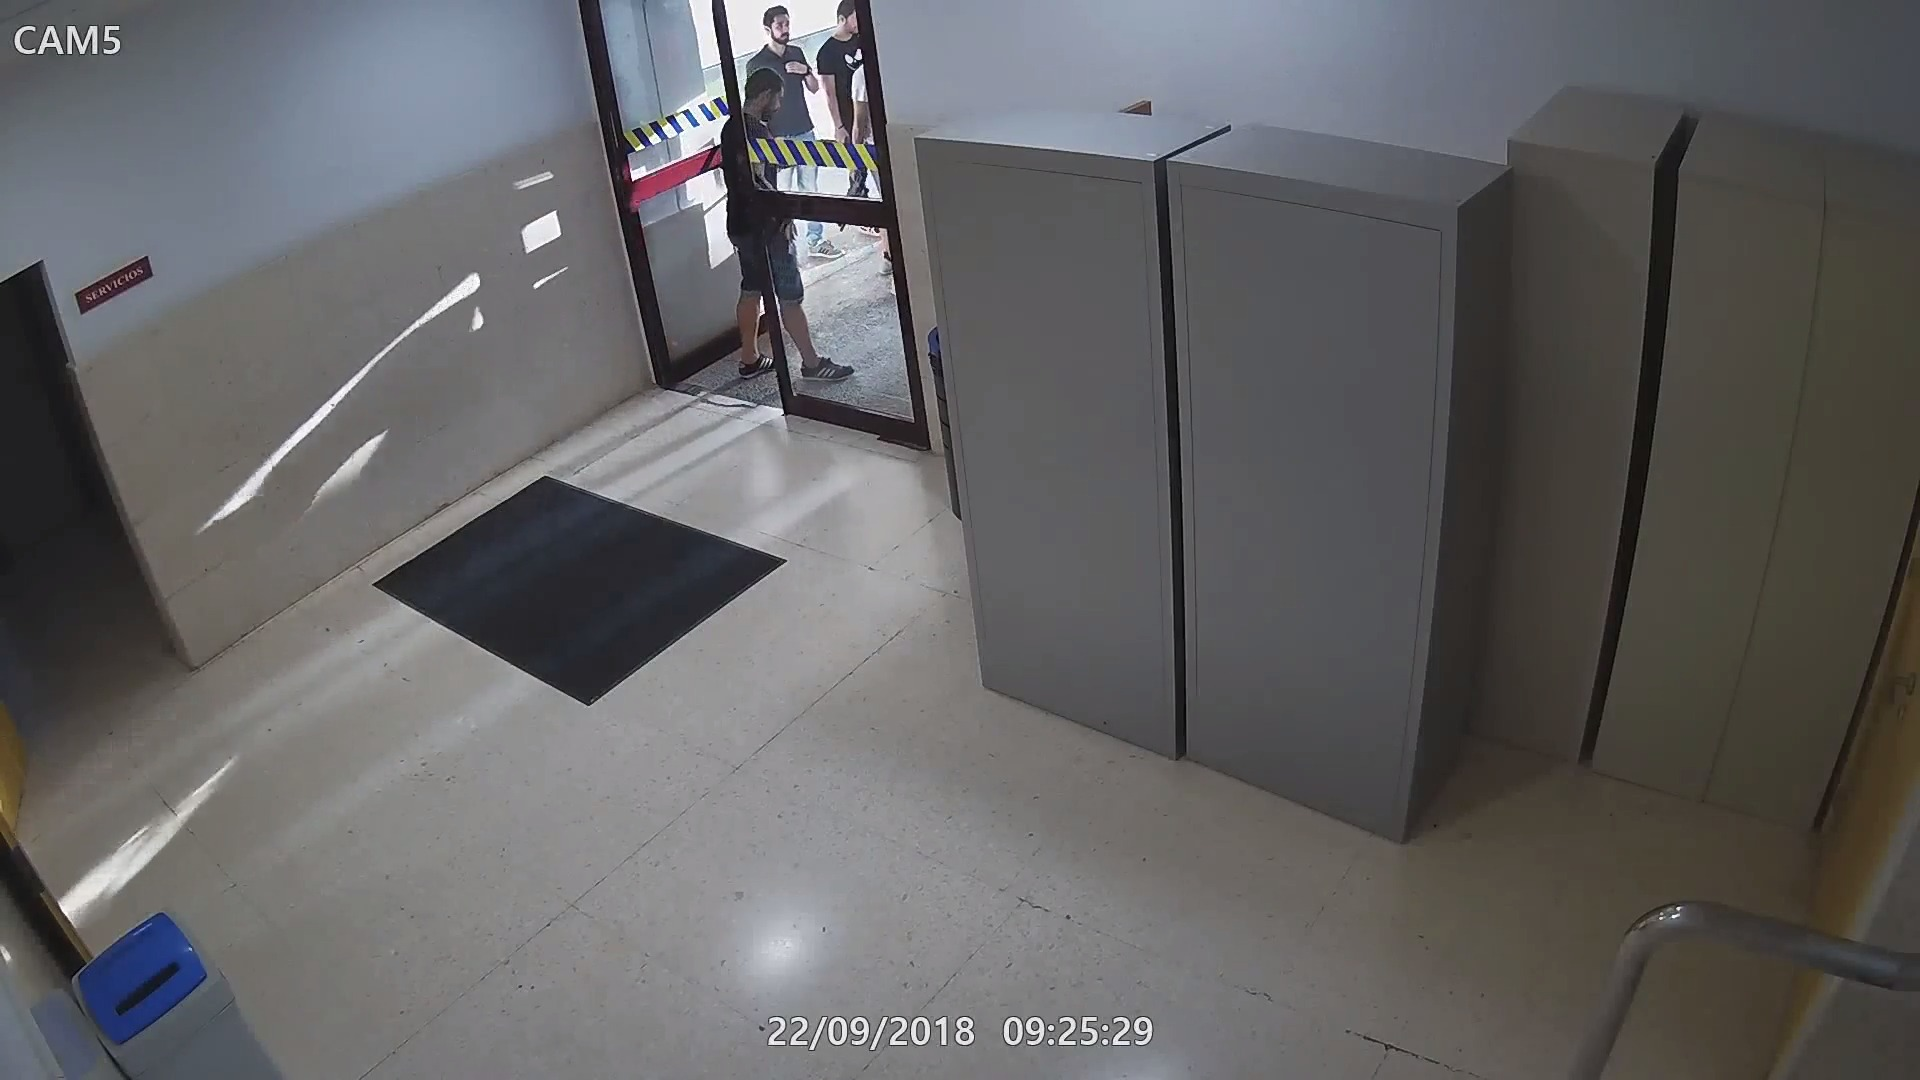Handgun: (781, 224, 803, 268)
Short_rifle: (833, 162, 874, 228)
